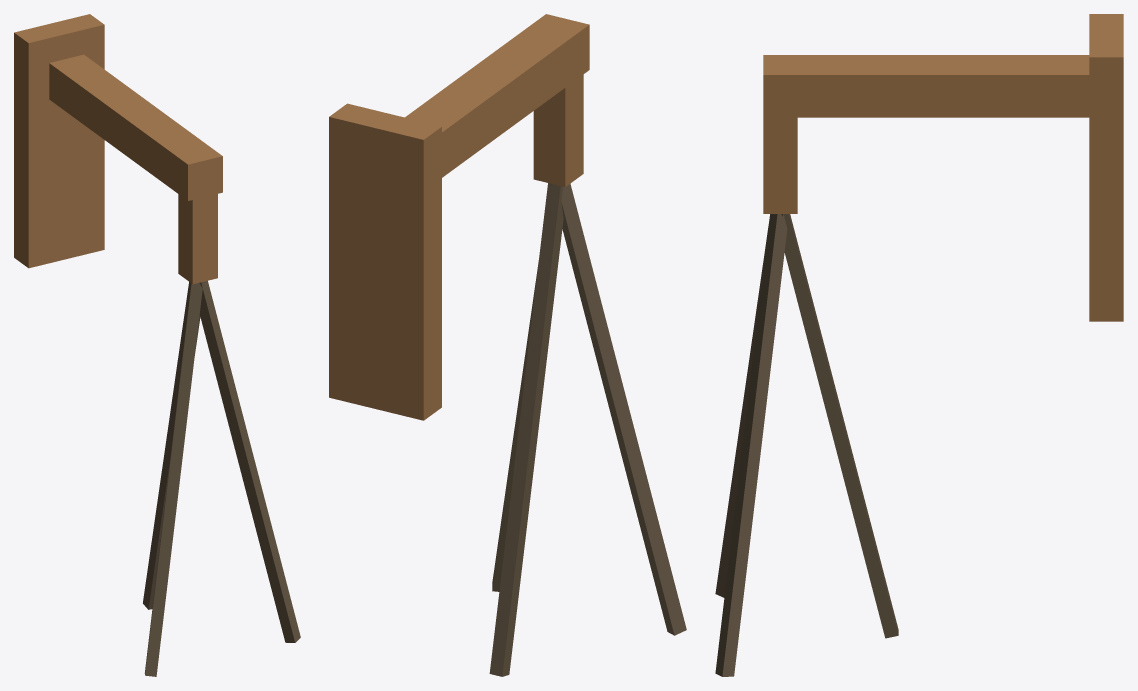
Rendered from hangingarm.gltf.
3 views of the same model, side by side, from view 1: azimuth 30°, elevation 25°; view 2: azimuth 150°, elevation 25°; view 3: azimuth 270°, elevation 25° (orthographic). The views are drawn at different scales.
Visible parts, largest first — view 1: HangingArm; view 2: HangingArm; view 3: HangingArm.
Boxes of the visible parts, <box> form: HangingArm: <box>14,14,300,676</box>; HangingArm: <box>329,14,686,676</box>; HangingArm: <box>715,14,1123,676</box>.
Bounding box in the file's own units: 0.2465 × 0.7725 × 0.4759.
Materials: 1 (1 with a texture image).
